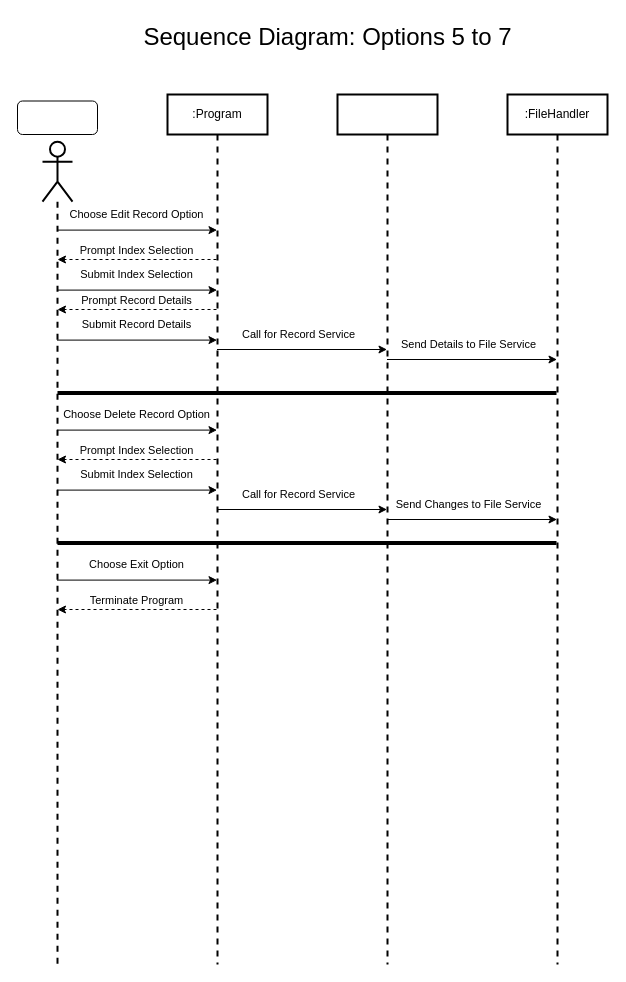
The diagram is 626 pixels wide and 982 high, and some of its shapes have lost their labels. Each missing label, with the box of its shape:
:RecordService: (336, 93, 438, 965)
User: (16, 100, 98, 134)
